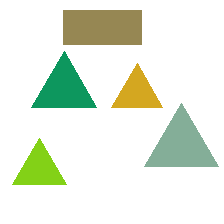rectangle: (63, 10, 141, 44)
triangle: (144, 103, 218, 166), (31, 51, 96, 107), (12, 138, 66, 184), (111, 63, 162, 107)
